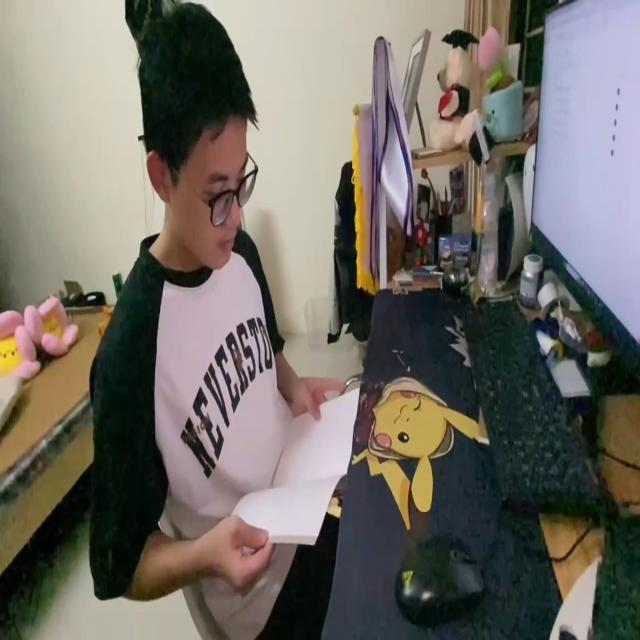book: (228, 382, 364, 553)
laptop: (528, 0, 640, 392)
student: (86, 1, 341, 640)
